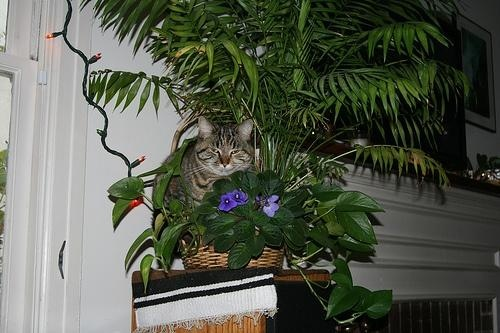cat: (164, 116, 256, 206)
pottedplant: (81, 1, 473, 325)
